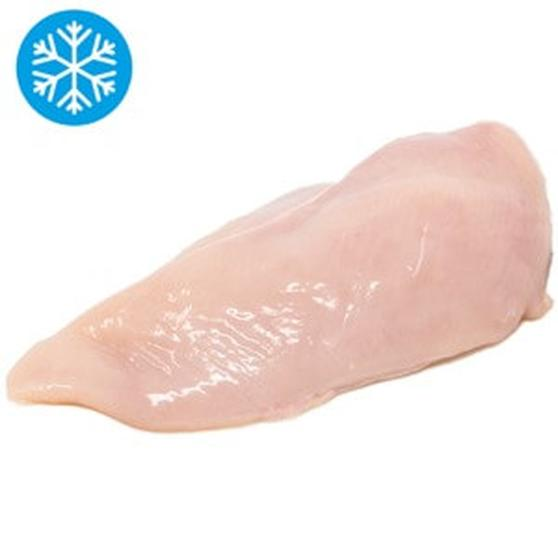chicken_fillet: (39, 129, 551, 434)
